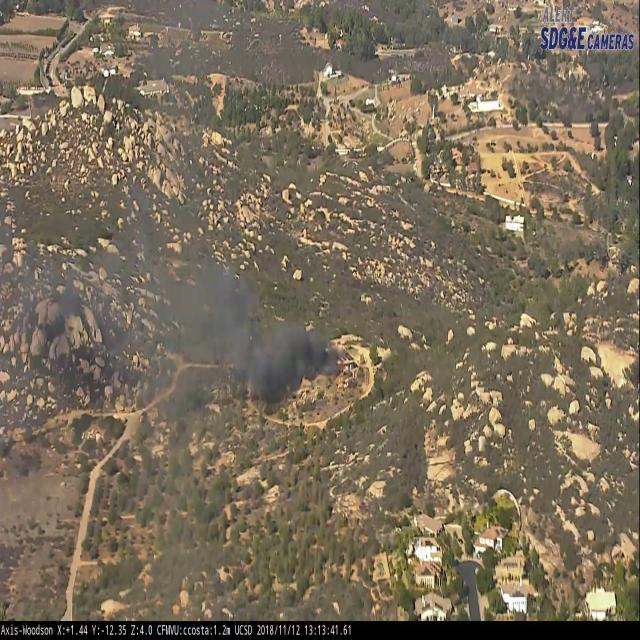smoke: (15, 3, 346, 420)
